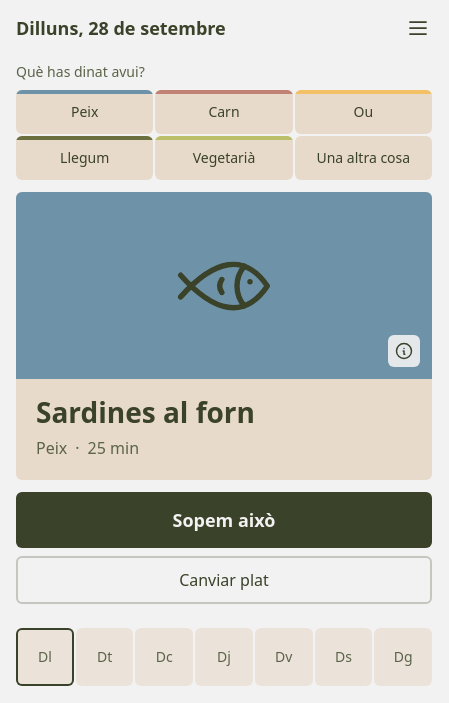
it: TodayScreen › confirmar desa el sopar i mostra l’estat confirmat
Expected: the heading "Dilluns, 28 de setembre" is shown, 16,16 -> 226,40
Click the button "Sopem això" at (224, 520), box 16,492 -> 432,548
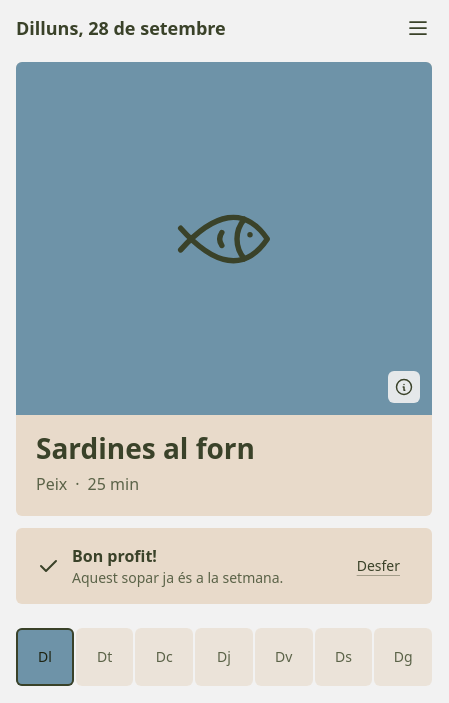
Expected: the text "Bon profit!" is shown, 72,545 -> 157,567
Expected: the button "Sopem això" is gone
